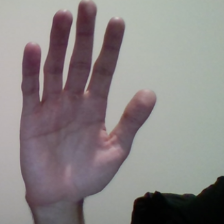left: (6, 2, 163, 212)
